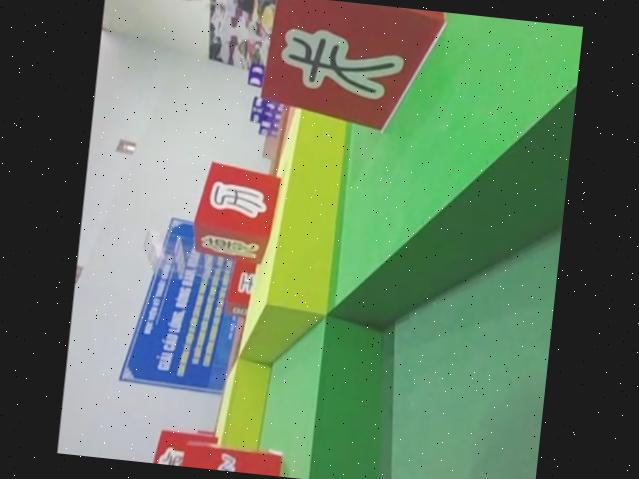R1: (167, 440, 285, 477)
R2 Fake: (254, 0, 445, 137), (191, 159, 285, 264)
